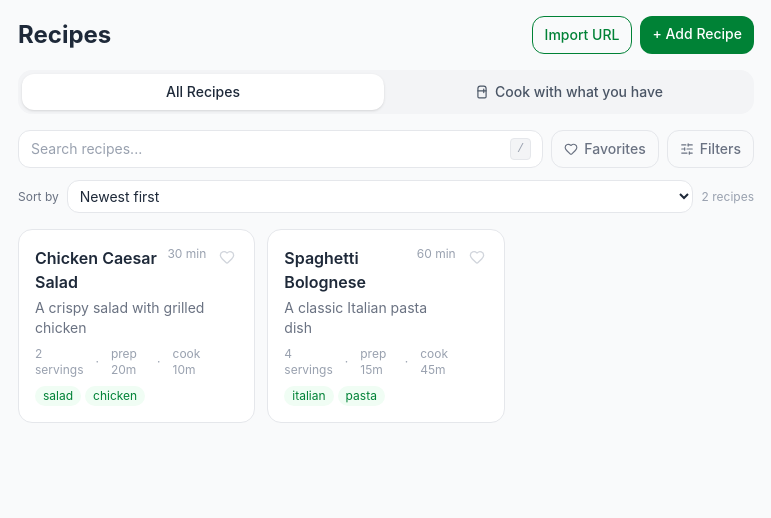
RecipesPage › search filtering › shows "No recipes found" empty state when no results match
This screenshot has width=771, height=518.
Expected: the heading "Spaghetti Bolognese" is shown, [284,248,366,292]
Type "xyznonexistent" into the search field with placeholder "Search recipes..." at {"x": 281, "y": 149}, box [18,130,543,168]
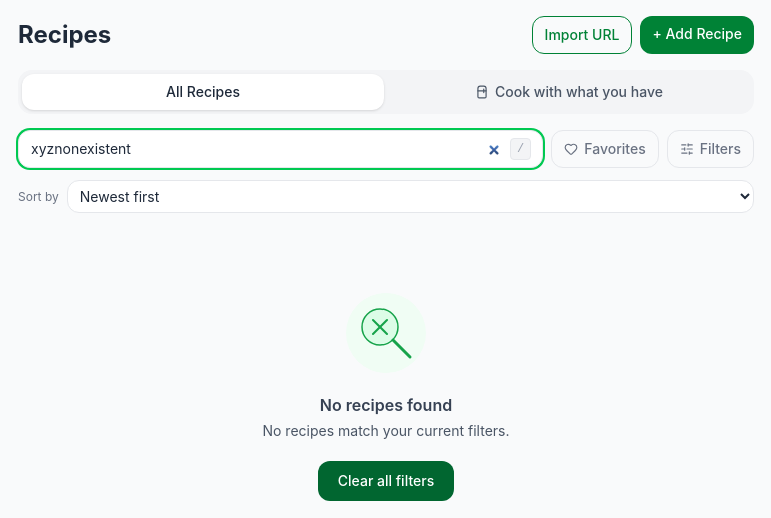
Expected: the text "No recipes found" is shown, [320,393,452,417]
Expected: the text "No recipes match your current filters." is shown, [262,421,510,441]
